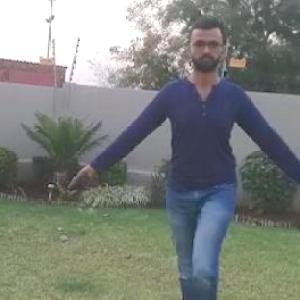land: (115, 43, 299, 299)
